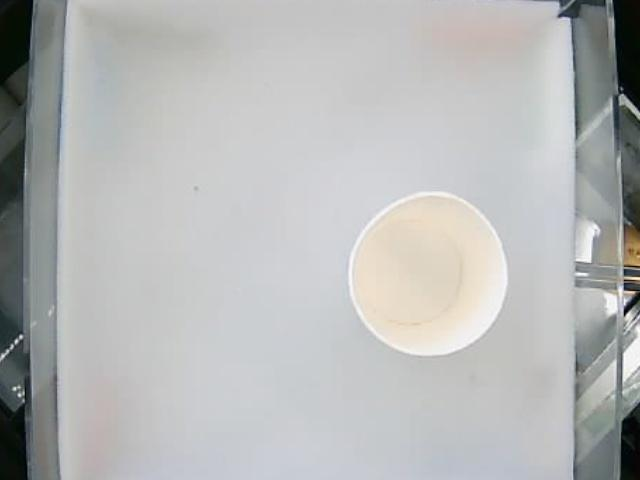Cup: (348, 192, 510, 360)
